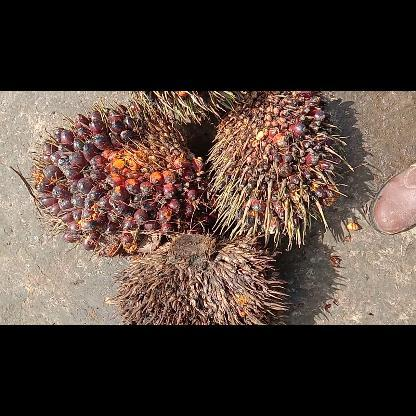TBS abnormal: (207, 90, 345, 248), (114, 234, 290, 324)
Terlalu masak: (27, 101, 210, 254)
